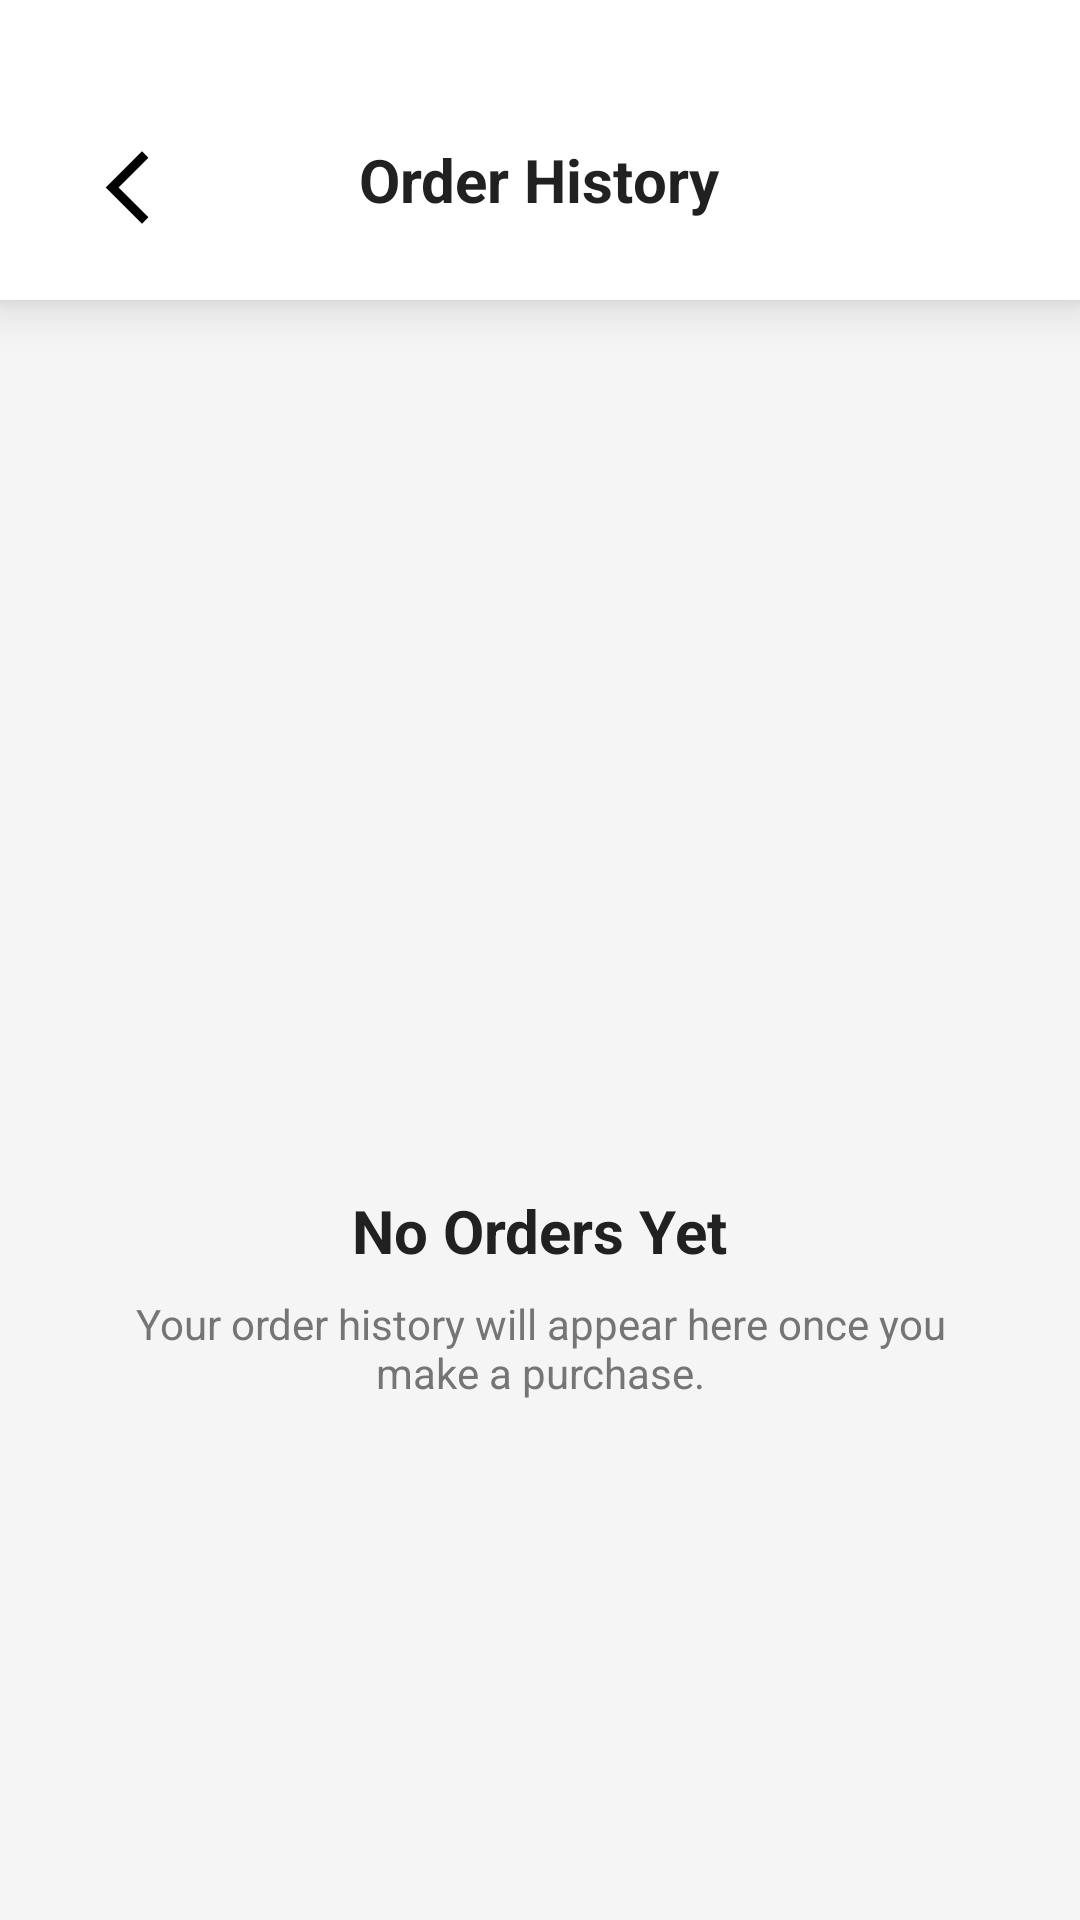

Screen size 1080 x 1920. Icon name, then its box in pixels as (x1, y1, x2, y2):
Back: (106, 151, 149, 224)
